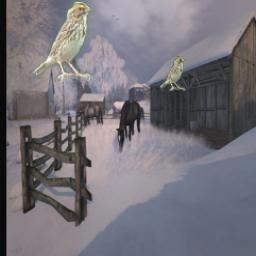Sparrow: (32, 1, 92, 83), (160, 56, 186, 91)
